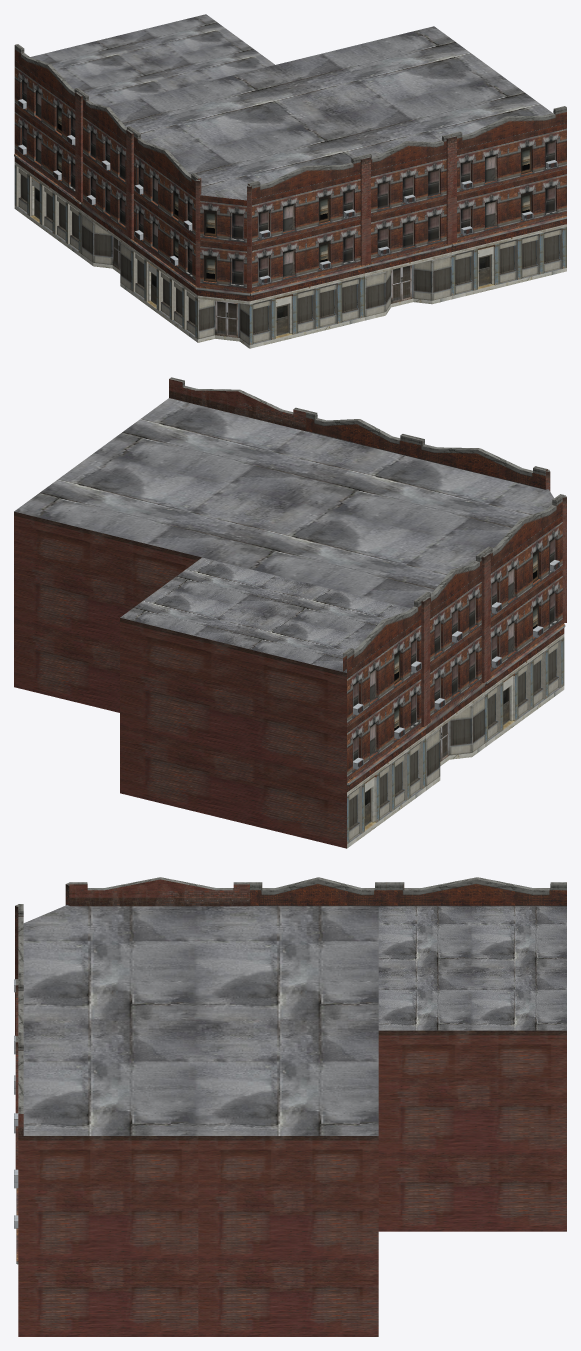
File: Building6.glb
The picture shows the model from 3 angles, top to bottom: view 1: azimuth 30°, elevation 25°; view 2: azimuth 150°, elevation 25°; view 3: azimuth 270°, elevation 25°; orthographic projection. The views are drawn at different scales.
Parts seen in each view (by area): view 1: Brownstone_Lowrise_1_Brownstone_Facade_Flr_3_0, Brownstone_Lowrise_1_Brownstone_Facade_FLR_7_0; view 2: Brownstone_Lowrise_1_Brownstone_Facade_Flr_3_0, Brownstone_Lowrise_1_Brownstone_Facade_FLR_7_0; view 3: Brownstone_Lowrise_1_Brownstone_Facade_Flr_3_0.
Boxes of the visible parts, left/top/right/bottom form: Brownstone_Lowrise_1_Brownstone_Facade_Flr_3_0: left=14, top=14, right=566, bottom=301; Brownstone_Lowrise_1_Brownstone_Facade_FLR_7_0: left=14, top=99, right=566, bottom=348; Brownstone_Lowrise_1_Brownstone_Facade_Flr_3_0: left=14, top=377, right=566, bottom=848; Brownstone_Lowrise_1_Brownstone_Facade_FLR_7_0: left=347, top=560, right=564, bottom=848; Brownstone_Lowrise_1_Brownstone_Facade_Flr_3_0: left=15, top=877, right=566, bottom=1336.
Bounding box in the file's own units: 30.69 × 13.94 × 30.68.
Materials: 2 (2 with a texture image).
